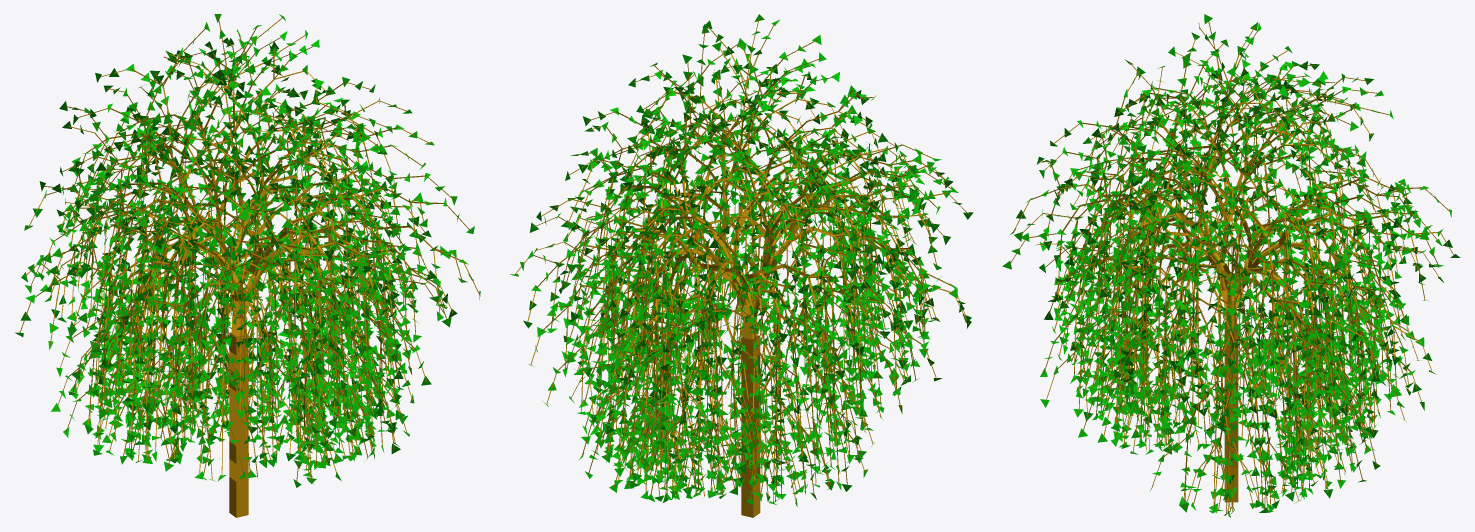
Rendered from tree_03.glb.
The picture shows the model from 3 angles, left to right: view 1: azimuth 30°, elevation 25°; view 2: azimuth 150°, elevation 25°; view 3: azimuth 270°, elevation 25°; orthographic projection. The views are drawn at different scales.
Visible parts, largest first — view 1: tree03__1; view 2: tree03__1; view 3: tree03__1.
Part boxes in pixels (<box>): tree03__1: <box>15,14,480,517</box>; tree03__1: <box>510,14,973,517</box>; tree03__1: <box>1002,14,1460,517</box>.
Size of the model in its own units: 164 by 197 by 172.
